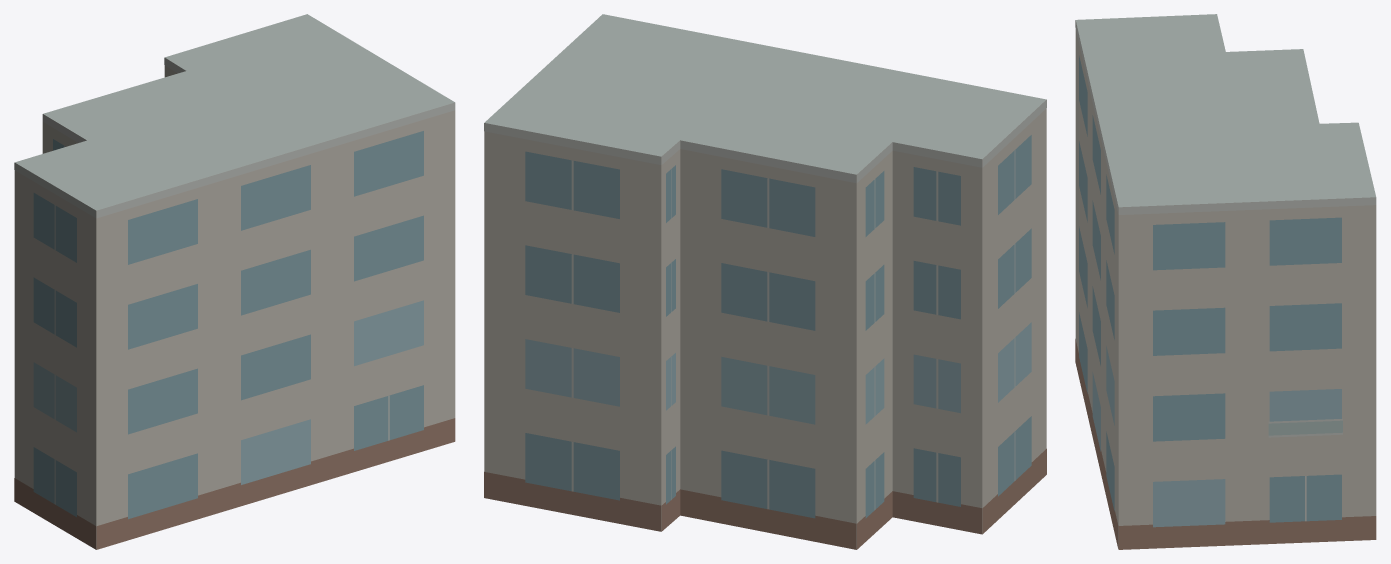
The model's file is survey-upis-32640621.glb.
The picture shows the model from 3 angles, left to right: view 1: azimuth 30°, elevation 25°; view 2: azimuth 150°, elevation 25°; view 3: azimuth 270°, elevation 25°; orthographic projection. The views are drawn at different scales.
Parts seen in each view (by area): view 1: survey-upis-32640621.tmp; view 2: survey-upis-32640621.tmp; view 3: survey-upis-32640621.tmp.
Boxes of the visible parts, box(x1,y1,x2,y2) form: survey-upis-32640621.tmp: box(14, 14, 455, 549); survey-upis-32640621.tmp: box(484, 14, 1046, 549); survey-upis-32640621.tmp: box(1075, 14, 1376, 549).
Bounding box in the file's own units: 12.95 × 10.7 × 8.52.
